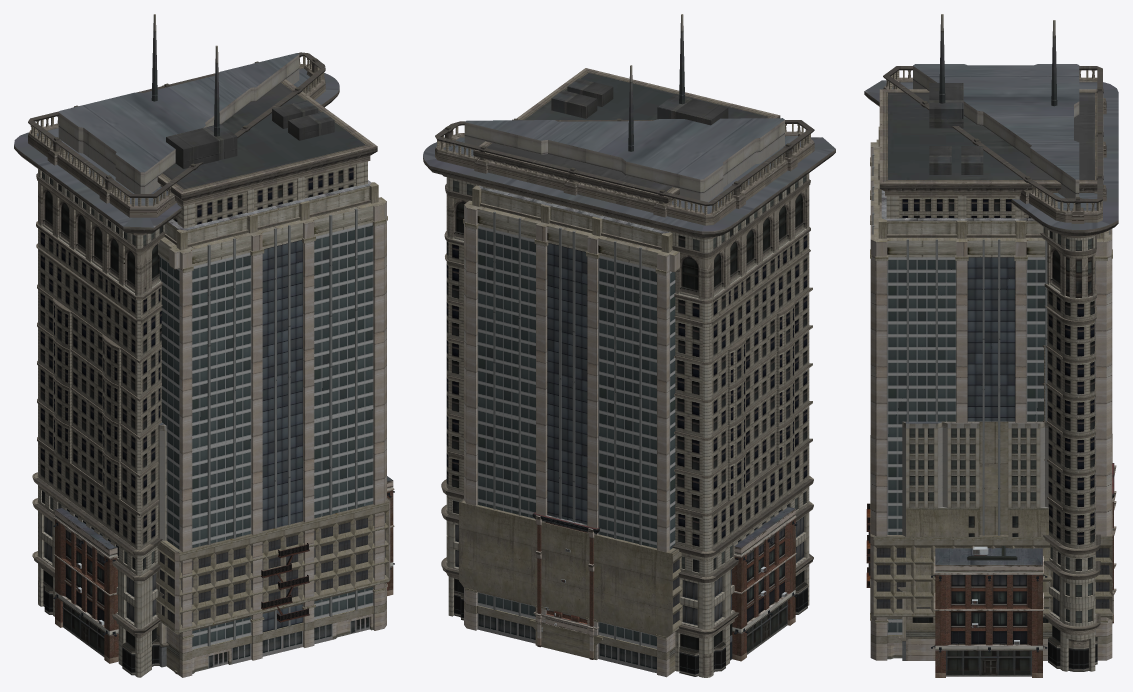
Rendered from bld_down.glb.
The picture shows the model from 3 angles, left to right: view 1: azimuth 30°, elevation 25°; view 2: azimuth 150°, elevation 25°; view 3: azimuth 270°, elevation 25°; orthographic projection.
Visible parts, largest first — view 1: down_13, down_06, down_14, down_04, down_02, down_05, down_03; view 2: down_06, down_13, down_04, down_14, down_02, down_03; view 3: down_13, down_06, down_05, down_14, down_02, down_04, down_03.
Boxes of the visible parts, <box> form: down_13: <box>158,180,387,677</box>; down_06: <box>14,52,339,677</box>; down_14: <box>151,14,377,247</box>; down_04: <box>155,498,390,674</box>; down_02: <box>53,476,394,663</box>; down_05: <box>156,422,168,667</box>; down_03: <box>261,543,309,622</box>; down_06: <box>423,118,835,677</box>; down_13: <box>463,185,679,677</box>; down_04: <box>459,498,682,659</box>; down_14: <box>473,14,780,250</box>; down_02: <box>732,506,797,661</box>; down_03: <box>532,512,599,659</box>; down_13: <box>870,126,1112,660</box>; down_06: <box>864,64,1118,671</box>; down_05: <box>897,421,1052,660</box>; down_14: <box>879,14,1103,237</box>; down_02: <box>931,546,1047,677</box>; down_04: <box>870,434,1112,623</box>; down_03: <box>866,463,1116,623</box>.
Bounding box in the file's own units: 56.54 × 102 × 40.59.
15 materials, 15 textured.
